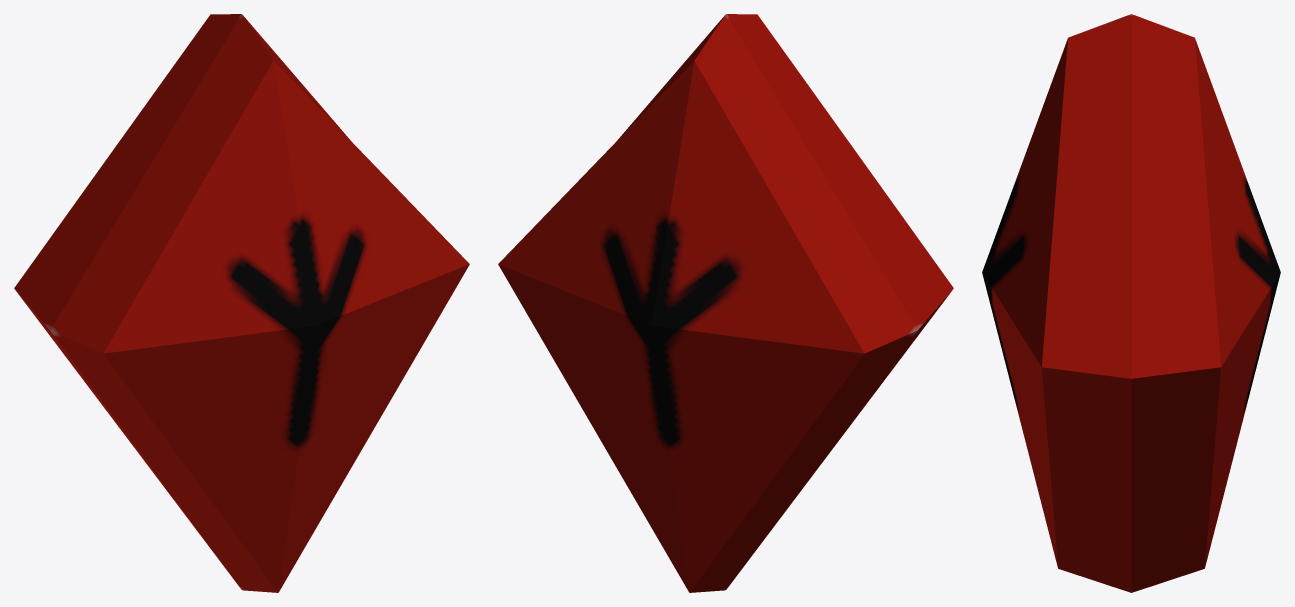
The model's file is 3d_rune_darkelf.fbx.
3 views of the same model, side by side, from view 1: azimuth 30°, elevation 25°; view 2: azimuth 150°, elevation 25°; view 3: azimuth 270°, elevation 25° (orthographic).
Parts seen in each view (by area): view 1: rune_darkelf; view 2: rune_darkelf; view 3: rune_darkelf.
Boxes of the visible parts, x1,y1,x2,y2 form: rune_darkelf: [14, 14, 469, 592]; rune_darkelf: [498, 14, 953, 592]; rune_darkelf: [982, 14, 1280, 592].
Size of the model in its own units: 197 by 284 by 133.
